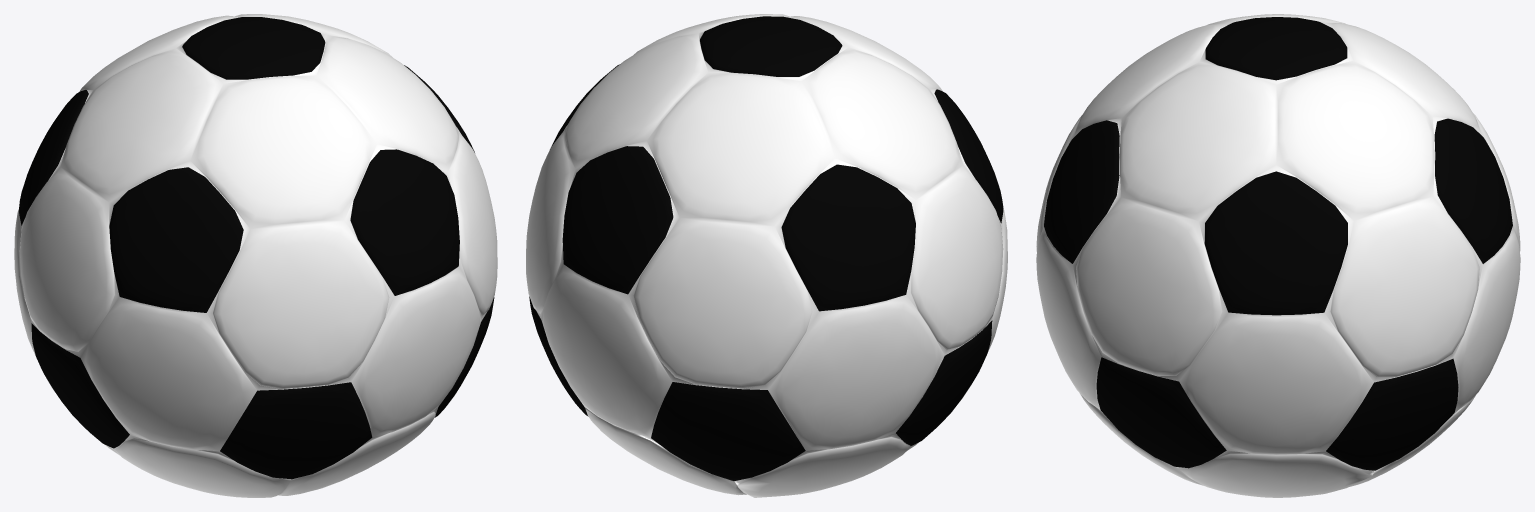
Rendered from Ball.obj.
The picture shows the model from 3 angles, left to right: view 1: azimuth 30°, elevation 25°; view 2: azimuth 150°, elevation 25°; view 3: azimuth 270°, elevation 25°; orthographic projection.
Visible parts, largest first — view 1: Soccerball; view 2: Soccerball; view 3: Soccerball.
Boxes of the visible parts, bbox=[...] form: Soccerball: bbox=[14, 14, 497, 497]; Soccerball: bbox=[526, 14, 1007, 497]; Soccerball: bbox=[1036, 14, 1520, 497].
Bounding box in the file's own units: 1.75 × 1.76 × 1.76.
